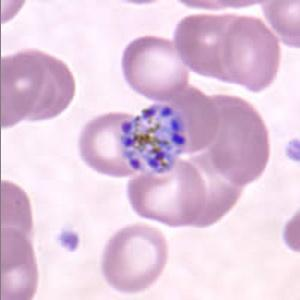Infected: (118, 104, 186, 179)
Uninfected: (205, 98, 267, 181), (8, 49, 78, 120), (179, 153, 245, 226), (101, 225, 168, 296), (173, 14, 243, 80), (129, 164, 202, 226), (219, 18, 278, 92), (76, 113, 144, 176), (122, 36, 189, 99), (152, 84, 214, 152)
